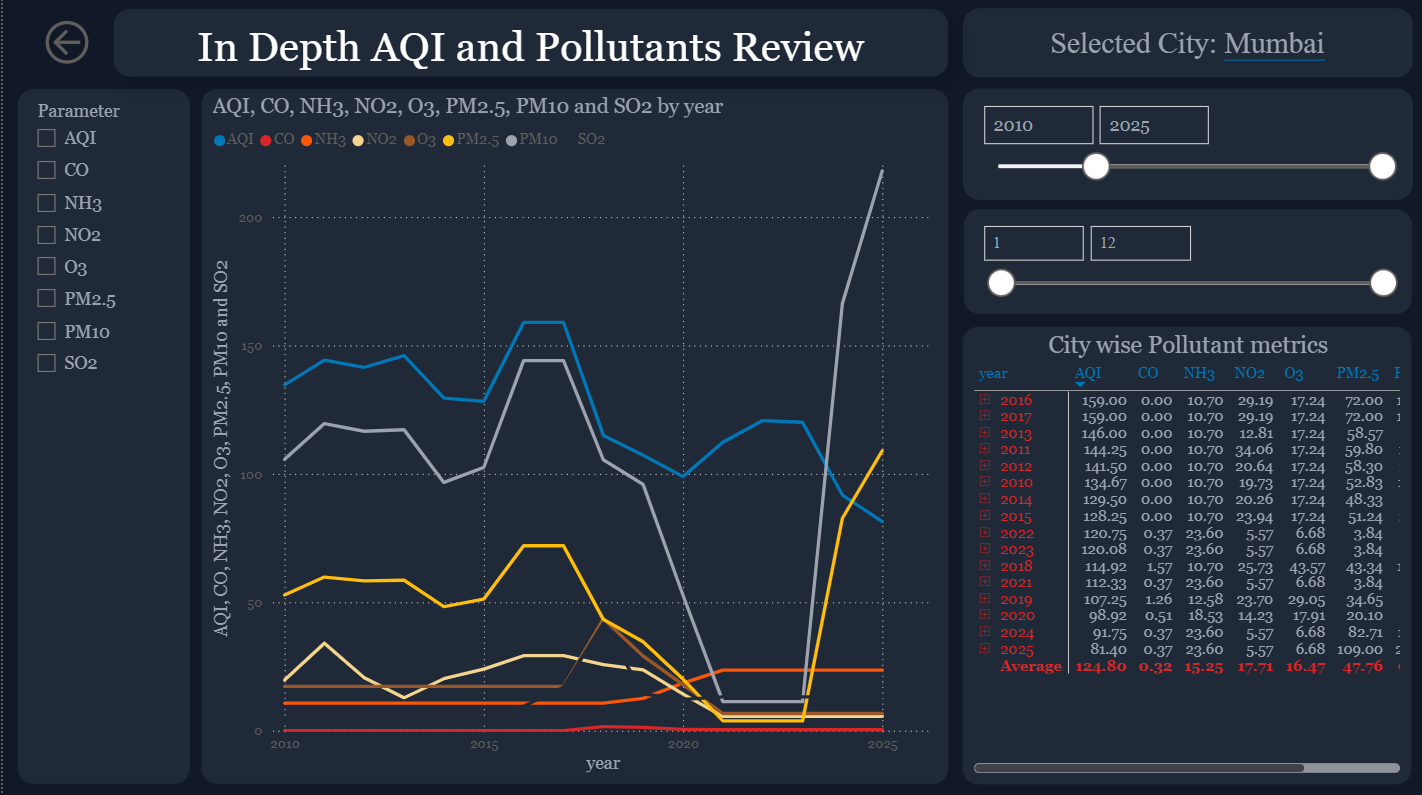

The page's visual inventory and layout, read from the dashboard file:
{"tool":"powerbi","page":{"name":"Pollutants","canvas":[1280,720],"ordinal":1},"visuals":[{"type":"lineChart","fields":{"Y":["AQI_Data.AQI Measure","AQI_Data.CO Measure","AQI_Data.NH3 Measure","AQI_Data.NO2 Measure","AQI_Data.O3 Measure","AQI_Data.PM2.5 Measure","AQI_Data.PM10 Measure","AQI_Data.SO2 Measure"],"Category":["Date_Dimension.year Hierarchy.year","Date_Dimension.year Hierarchy.month"]},"box":[177.9,82.1,675.5,628.2],"z":0},{"type":"slicer","fields":{"Values":["Parameter.Parameter"]},"box":[12.4,82.1,156.7,628.2],"z":1000},{"type":"slicer","fields":{"Values":["Date_Dimension.year"]},"box":[865.8,82.1,405.5,100.8],"z":2000},{"type":"slicer","fields":{"Values":["Date_Dimension.month_number"]},"box":[865.6,190.5,405.8,95.8],"z":3000},{"type":"actionButton","box":[27.4,10,63.4,62.2],"z":4000},{"type":"pivotTable","title":"City wise Pollutant metrics","fields":{"Values":["AQI_Data.AQI Measure","AQI_Data.CO Measure","AQI_Data.NH3 Measure","AQI_Data.NO2 Measure","AQI_Data.O3 Measure","AQI_Data.PM2.5 Measure","AQI_Data.PM10 Measure","AQI_Data.SO2 Measure"],"Rows":["Date_Dimension.year Hierarchy.year","Date_Dimension.year Hierarchy.month"]},"box":[864.6,296.1,406.8,414.2],"z":5000},{"type":"textbox","box":[865.8,10,405.5,62.2],"z":6000},{"type":"textbox","box":[99.5,10,753.8,62.2],"z":7001}]}

Visuals, with their boxes in screenshot pixels (x1, y1, x2, y2), scaled from the page's 1280x720 canvas onto the 1422x795 screenshot:
lineChart - AQI_Data.AQI Measure x AQI_Data.CO Measure: BBox(198, 91, 948, 784)
slicer - Parameter.Parameter: BBox(14, 91, 188, 784)
slicer - Date_Dimension.year: BBox(962, 91, 1412, 202)
slicer - Date_Dimension.month_number: BBox(962, 210, 1412, 316)
actionButton: BBox(30, 11, 101, 80)
"City wise Pollutant metrics" pivotTable: BBox(961, 327, 1412, 784)
textbox: BBox(962, 11, 1412, 80)
textbox: BBox(111, 11, 948, 80)
